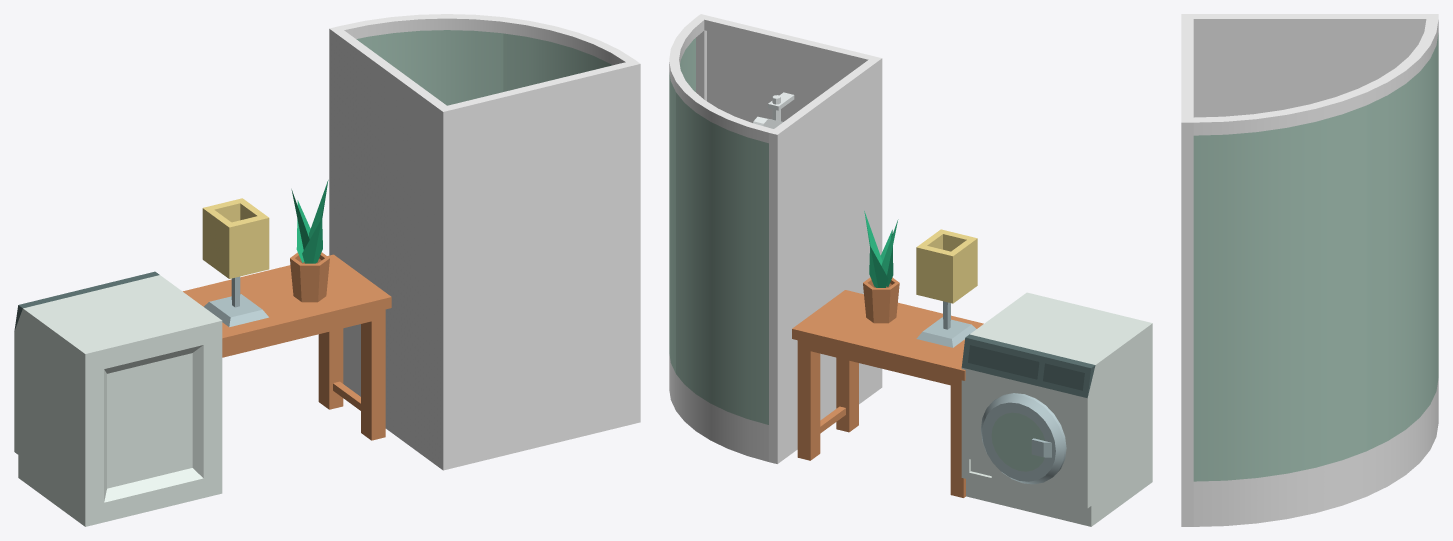
Rendered from 3BathObstacleDown.fbx.
3 views of the same model, side by side, from view 1: azimuth 30°, elevation 25°; view 2: azimuth 150°, elevation 25°; view 3: azimuth 270°, elevation 25° (orthographic). The views are drawn at different scales.
Parts seen in each view (by area): view 1: showerRound, washer, sideTable, lampSquareTable, pottedPlant; view 2: showerRound, washer, sideTable, lampSquareTable, pottedPlant; view 3: showerRound.
Boxes of the visible parts, bbox=[...] form: showerRound: bbox=[329, 14, 640, 470]; washer: bbox=[14, 271, 222, 526]; sideTable: bbox=[183, 254, 391, 440]; lampSquareTable: bbox=[202, 198, 269, 327]; pottedPlant: bbox=[290, 180, 329, 302]; showerRound: bbox=[669, 14, 882, 463]; washer: bbox=[961, 292, 1152, 526]; sideTable: bbox=[792, 290, 983, 497]; lampSquareTable: bbox=[916, 229, 977, 347]; pottedPlant: bbox=[863, 211, 899, 323]; showerRound: bbox=[1181, 14, 1438, 526].
Size of the model in its own units: 29.8 by 19.5 by 11.24.
